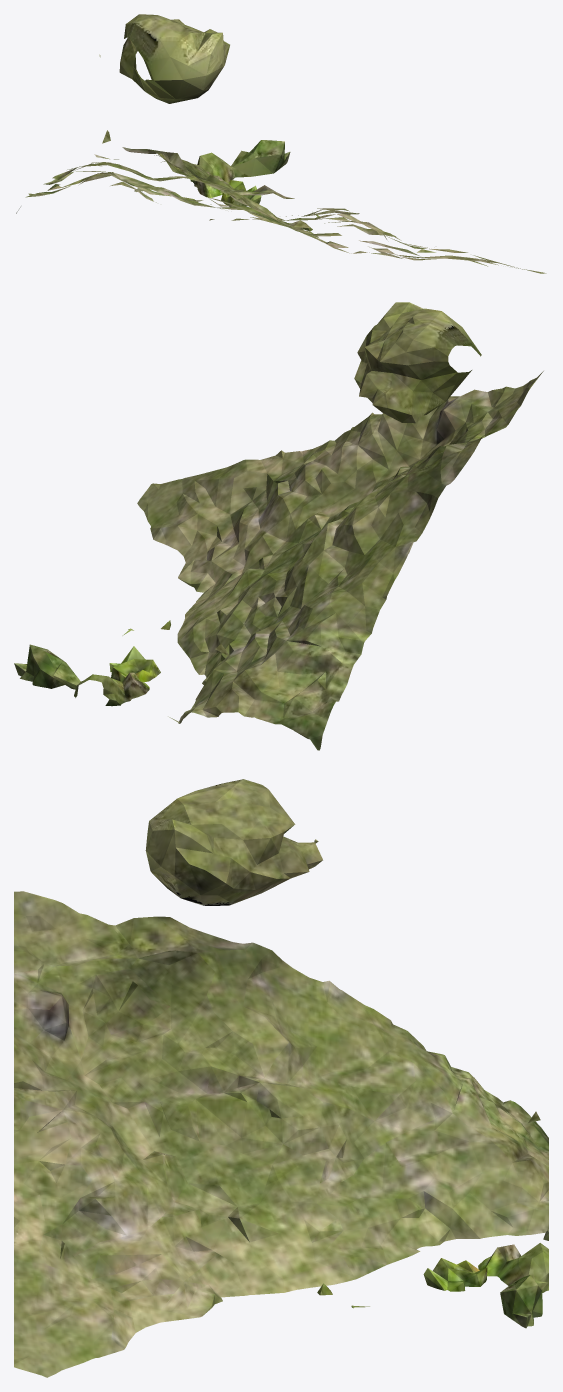
3 renders of one model, top to bottom at view 1: azimuth 30°, elevation 25°; view 2: azimuth 150°, elevation 25°; view 3: azimuth 270°, elevation 25°, orthographic. The views are drawn at different scales.
Size of the model in its own units: 26.11 by 20.61 by 26.11.
3 materials, 3 textured.
